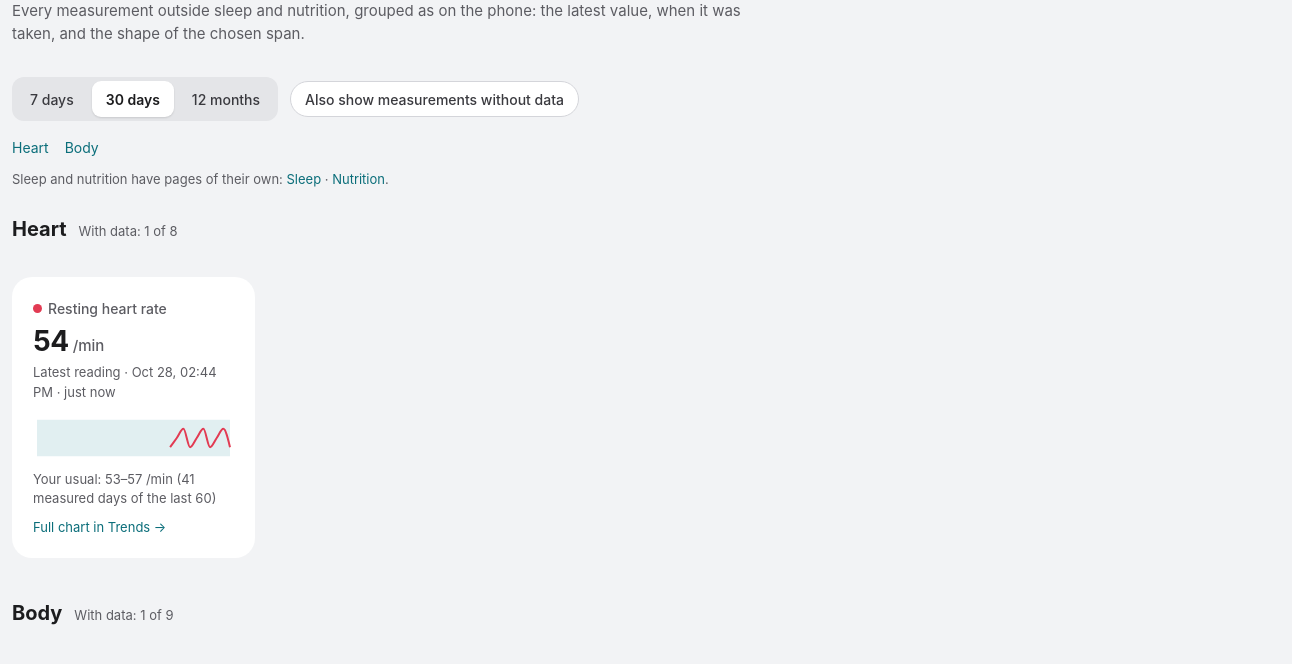
Test: the grid › shows only measurements with data until asked for all
Check: the heading "Resting heart rate" is shown, box [33,300,167,317]
Step 1. Click the button "Also show measurements without data" → x=435, y=99, box [290,81,579,117]
(page scrolled)
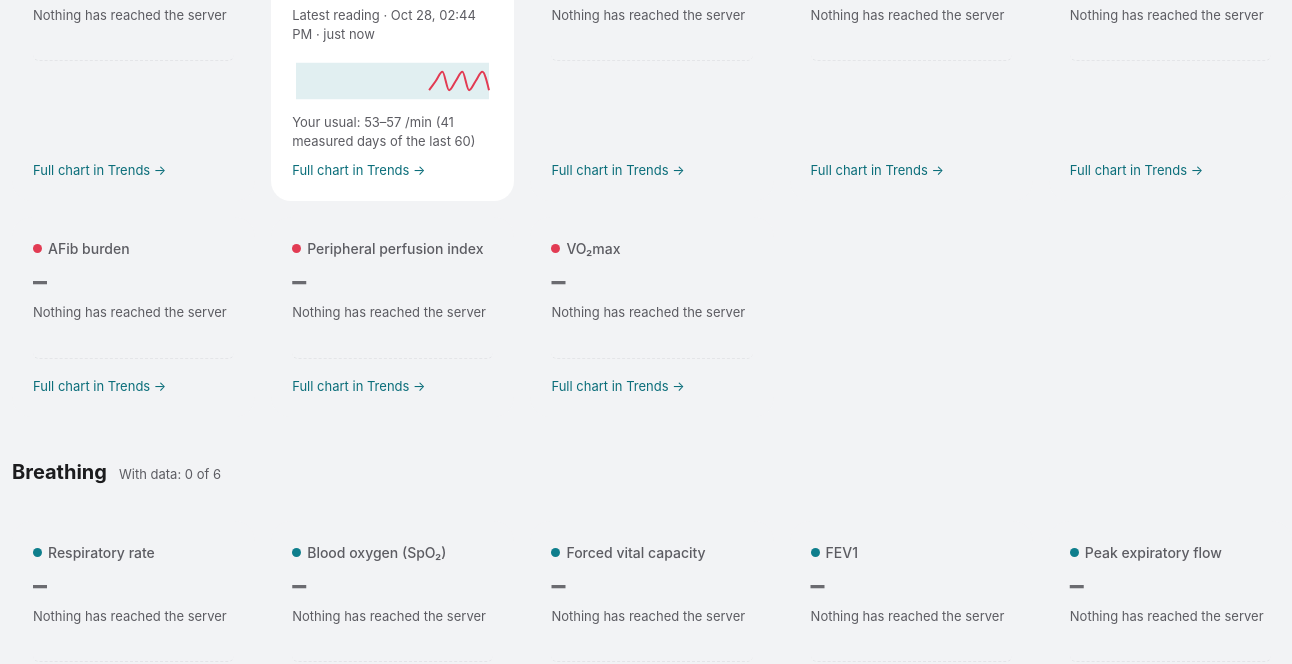
Check: the element that starts with "VO₂max" shows "Nothing has reached the server", box [551,304,745,320]
